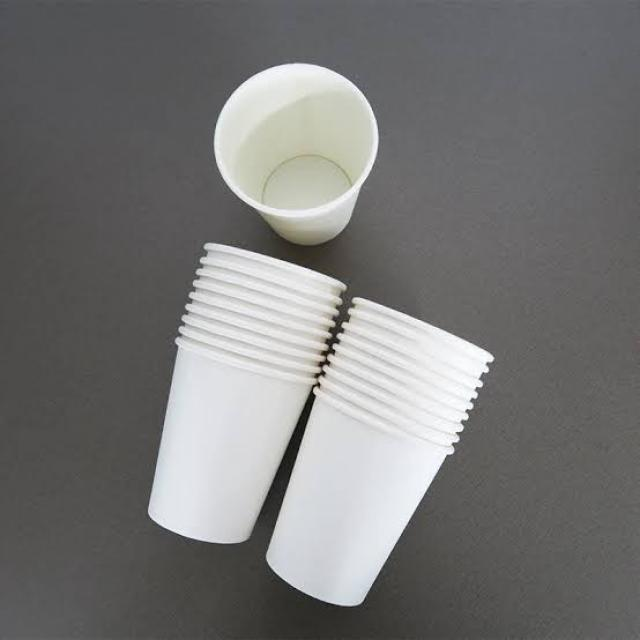paper cup: (189, 37, 407, 250)
